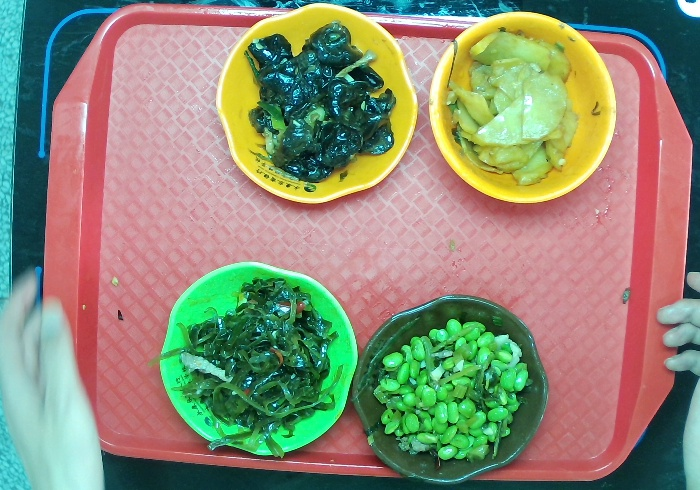YKMZ-Ju_Se_Ao_Bian_Wan: (217, 1, 419, 210)
YKMZ-Ju_Se_Yuan_Wan: (432, 10, 622, 209)
YKMZ-Ka_Fei_Ao_Bian_Wan: (358, 295, 554, 486)
YKMZ-Lv_Se_Ao_Bian_Wan: (154, 263, 359, 456)
